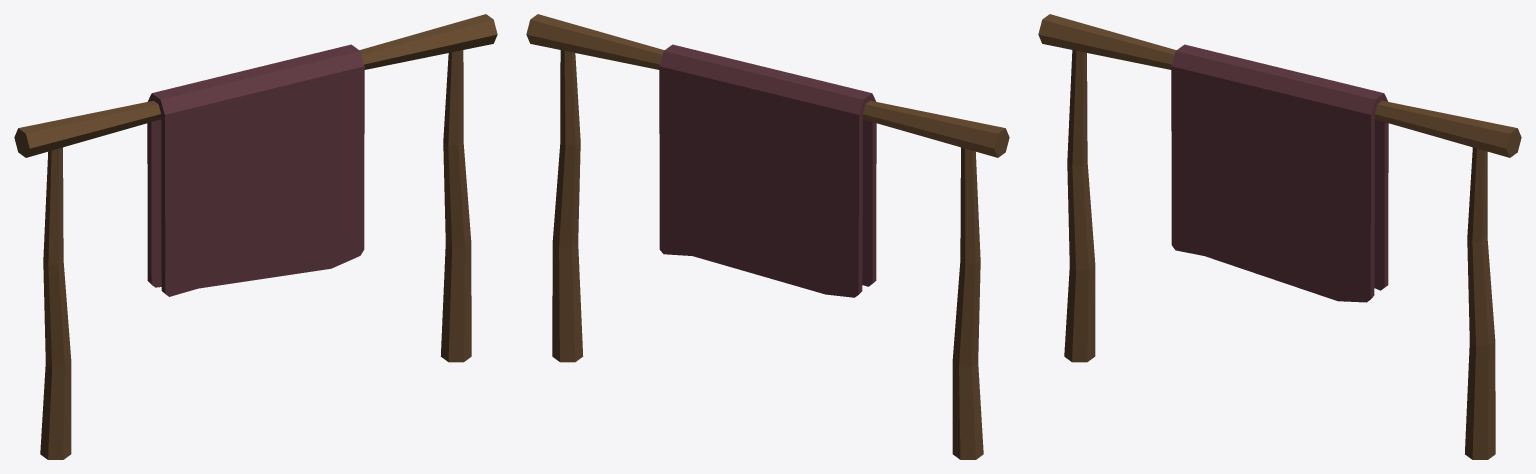
Rendered from egypt-rack.fbx.
3 views of the same model, side by side, from view 1: azimuth 30°, elevation 25°; view 2: azimuth 150°, elevation 25°; view 3: azimuth 330°, elevation 25° (orthographic).
Parts seen in each view (by area): view 1: egypt-rack; view 2: egypt-rack; view 3: egypt-rack.
Part boxes in pixels (bbox=[...]): egypt-rack: bbox=[14, 14, 497, 459]; egypt-rack: bbox=[526, 14, 1009, 459]; egypt-rack: bbox=[1038, 14, 1521, 459].
Bounding box in the file's own units: 3.5 × 2.39 × 0.23.
